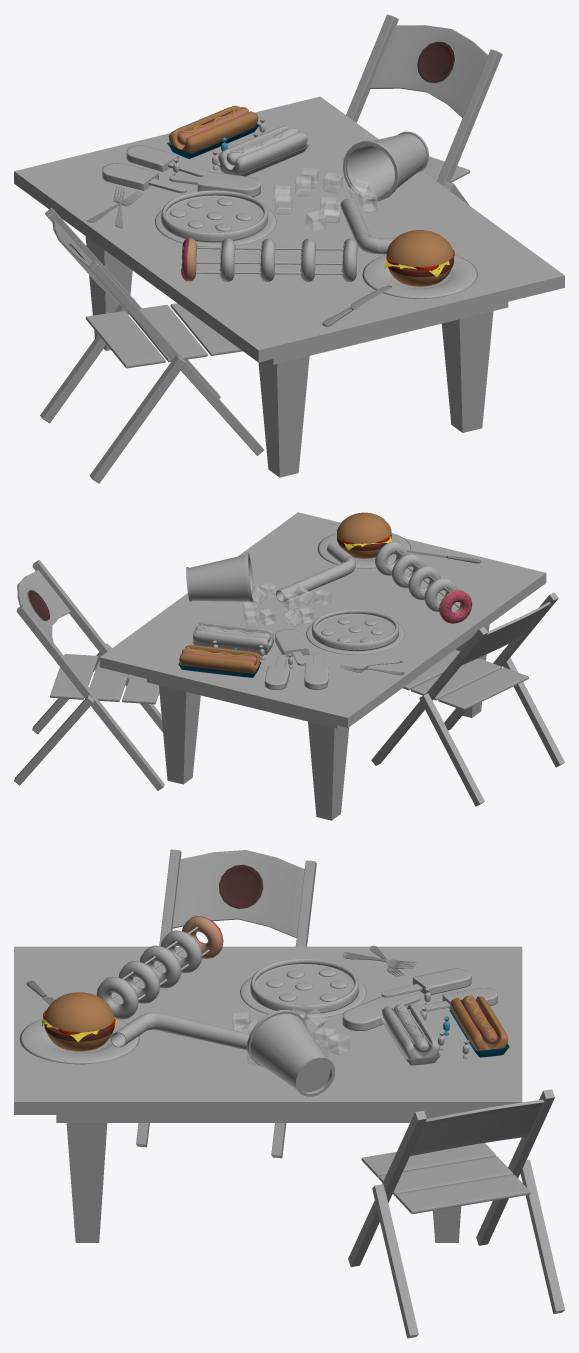
Rendered from pista.fbx.
3 views of the same model, one above another, from view 1: azimuth 30°, elevation 25°; view 2: azimuth 150°, elevation 25°; view 3: azimuth 270°, elevation 25° (orthographic). The views are drawn at different scales.
Parts seen in each view (by area): view 1: mesa, chair4, chair1, pizza, vaso_tunel:pPipe1, hotdog1, plate:pCylinder1, pTorus1 (×4), cheeseburger:capa_arriba, polySurface11, paleta1, paleta2 (+4 smaller); view 2: mesa, chair1, chair4, pizza, vaso_tunel:pPipe1, pTorus1 (×4), hotdog1, pitillo_tunel, polySurface11, cheeseburger:capa_arriba, paleta2, plate:pCylinder1 (+5 smaller); view 3: mesa, chair1, chair4, pizza, vaso_tunel:pPipe1, pTorus1 (×4), pitillo_tunel, hotdog1, plate:pCylinder1, cheeseburger:capa_arriba, paleta1, paleta2 (+5 smaller).
Boxes of the visible parts, x1,y1,x2,y2 form: mesa: [14, 96, 564, 477]; chair4: [40, 207, 263, 483]; chair1: [346, 14, 502, 205]; pizza: [161, 190, 267, 242]; vaso_tunel:pPipe1: [342, 131, 429, 201]; hotdog1: [216, 125, 309, 176]; plate:pCylinder1: [362, 254, 477, 298]; pTorus1 (×4): [181, 238, 357, 281]; cheeseburger:capa_arriba: [386, 230, 453, 267]; polySurface11: [168, 105, 258, 153]; paleta1: [102, 163, 186, 193]; paleta2: [169, 171, 260, 197]; mesa: [99, 512, 546, 820]; chair1: [14, 560, 164, 790]; chair4: [371, 592, 564, 806]; pizza: [311, 609, 398, 651]; vaso_tunel:pPipe1: [186, 552, 254, 603]; pTorus1 (×4): [375, 541, 472, 623]; hotdog1: [192, 622, 274, 654]; pitillo_tunel: [276, 541, 355, 602]; polySurface11: [179, 645, 260, 673]; cheeseburger:capa_arriba: [337, 512, 391, 543]; paleta2: [275, 629, 309, 665]; plate:pCylinder1: [317, 533, 410, 568]; mesa: [14, 946, 522, 1242]; chair1: [348, 1089, 564, 1338]; chair4: [136, 849, 316, 1158]; pizza: [250, 958, 358, 1014]; vaso_tunel:pPipe1: [247, 1010, 335, 1096]; pTorus1 (×4): [96, 916, 223, 1019]; pitillo_tunel: [110, 1012, 249, 1050]; hotdog1: [381, 1003, 440, 1065]; plate:pCylinder1: [19, 1018, 139, 1064]; cheeseburger:capa_arriba: [44, 992, 114, 1032]; paleta1: [381, 968, 471, 997]; paleta2: [342, 994, 420, 1030].
Bounding box in the file's own units: 127 × 49.72 × 109.
